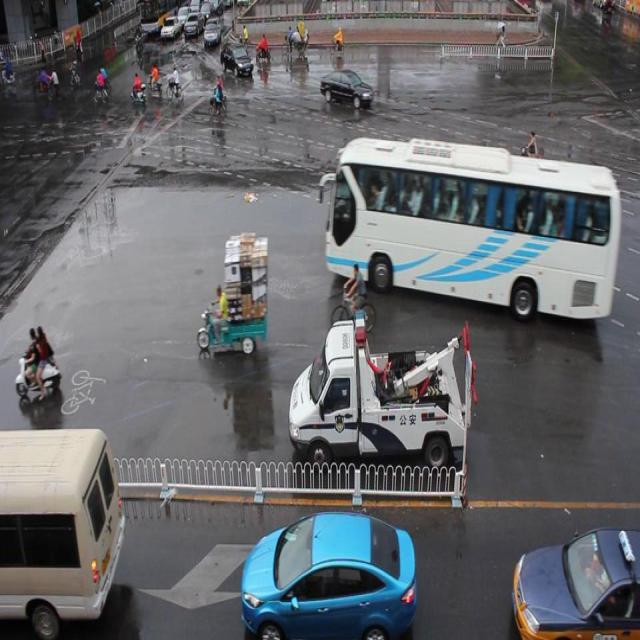bus: (288, 310, 474, 471)
car: (241, 508, 415, 640), (511, 526, 640, 640), (320, 67, 373, 108), (220, 43, 252, 78)
truck: (1, 429, 127, 640)
van: (317, 133, 618, 327)
